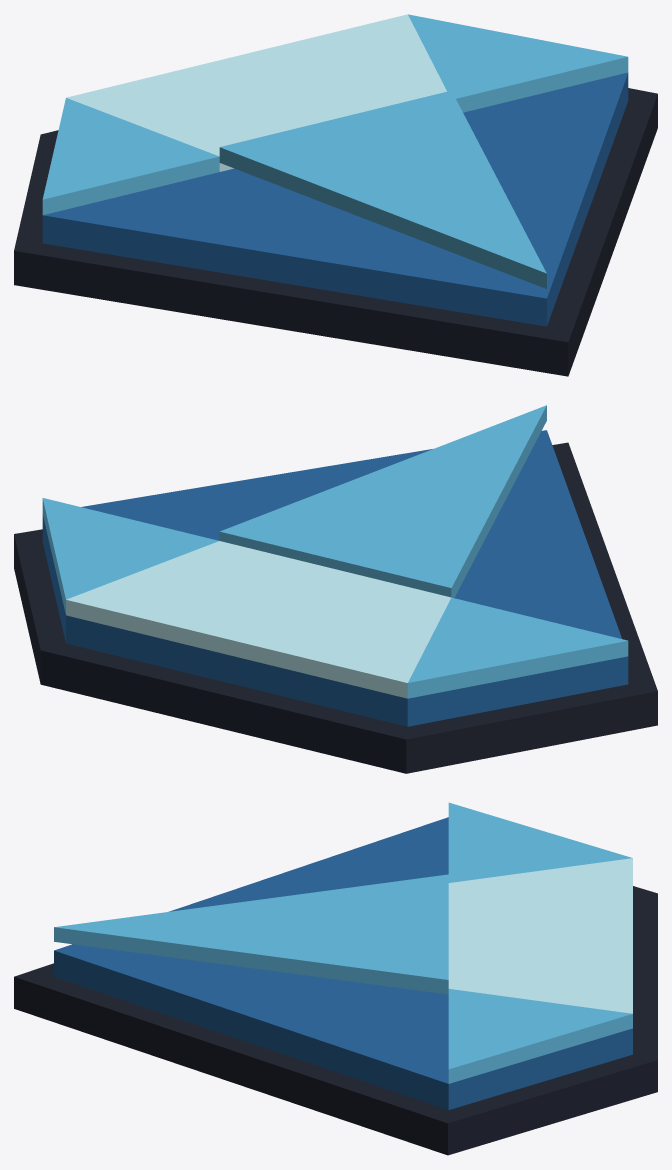
The model's file is blue_gem.fbx.
3 views of the same model, one above another, from view 1: azimuth 30°, elevation 25°; view 2: azimuth 150°, elevation 25°; view 3: azimuth 270°, elevation 25° (orthographic). The views are drawn at different scales.
Parts seen in each view (by area): view 1: blue_gem; view 2: blue_gem; view 3: blue_gem.
Boxes of the visible parts, left/top/right/bottom form: blue_gem: left=14, top=14, right=657, bottom=376; blue_gem: left=14, top=405, right=657, bottom=773; blue_gem: left=14, top=802, right=657, bottom=1155.
Size of the model in its own units: 1.08 by 0.14 by 1.
Materials: 1 (1 with a texture image).
